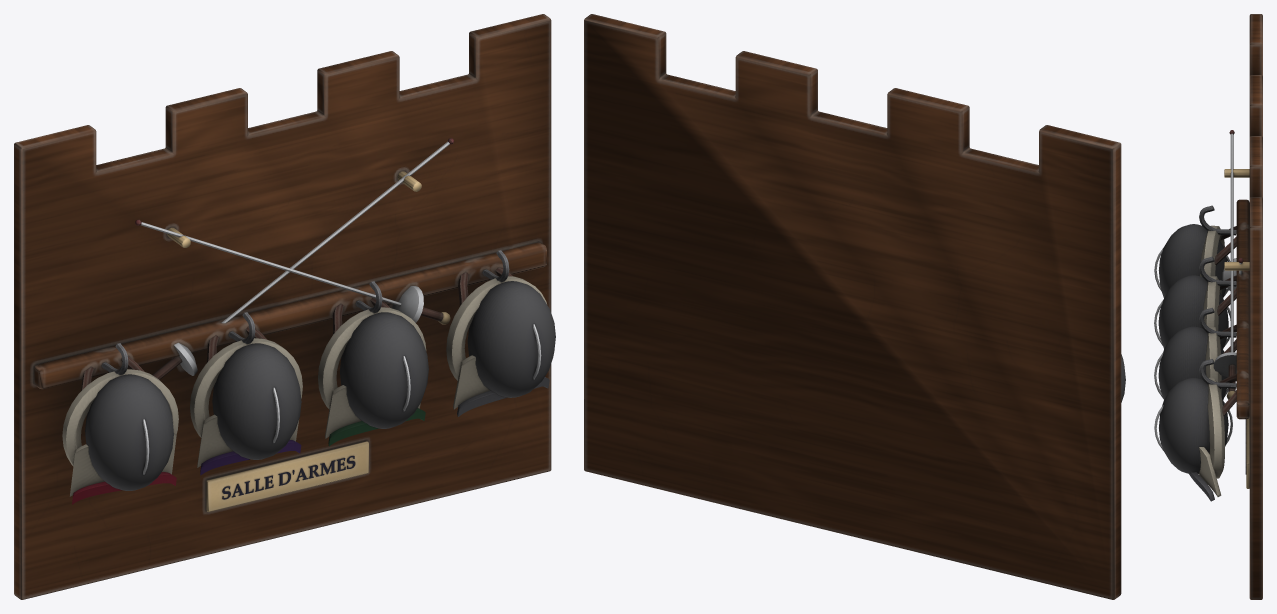
The model's file is FencingMaskRack.fbx.
3 views of the same model, side by side, from view 1: azimuth 30°, elevation 25°; view 2: azimuth 150°, elevation 25°; view 3: azimuth 270°, elevation 25° (orthographic). The views are drawn at different scales.
Visible parts, largest first — view 1: FencingMaskRack; view 2: FencingMaskRack; view 3: FencingMaskRack.
Boxes of the visible parts, x1,y1,x2,y2 form: FencingMaskRack: (14,14,555,599); FencingMaskRack: (584,14,1125,599); FencingMaskRack: (1154,14,1262,599).
Size of the model in its own units: 460 by 375 by 99.03.
